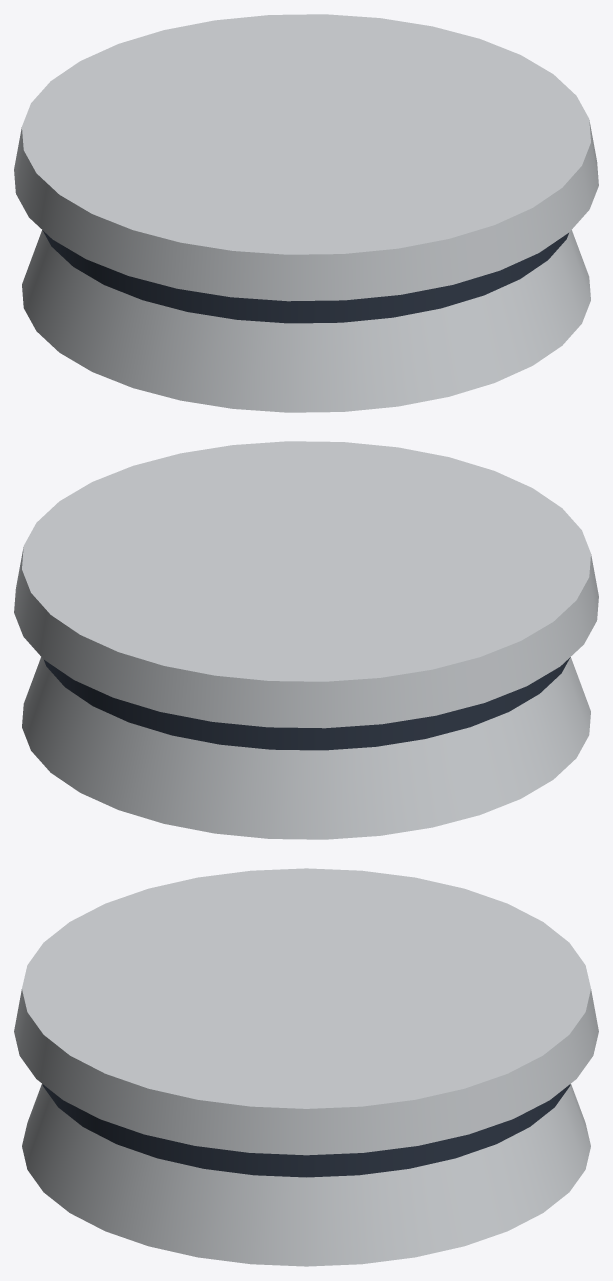
3 renders of one model, top to bottom at view 1: azimuth 30°, elevation 25°; view 2: azimuth 150°, elevation 25°; view 3: azimuth 270°, elevation 25°, orthographic.
Visible parts, largest first — view 1: cad-device-smoke-co-alarm; view 2: cad-device-smoke-co-alarm; view 3: cad-device-smoke-co-alarm.
Part boxes in pixels (<box>): cad-device-smoke-co-alarm: <box>14,14,598,412</box>; cad-device-smoke-co-alarm: <box>14,441,598,839</box>; cad-device-smoke-co-alarm: <box>14,868,598,1266</box>.
Size of the model in its own units: 0.148 by 0.0475 by 0.148.
